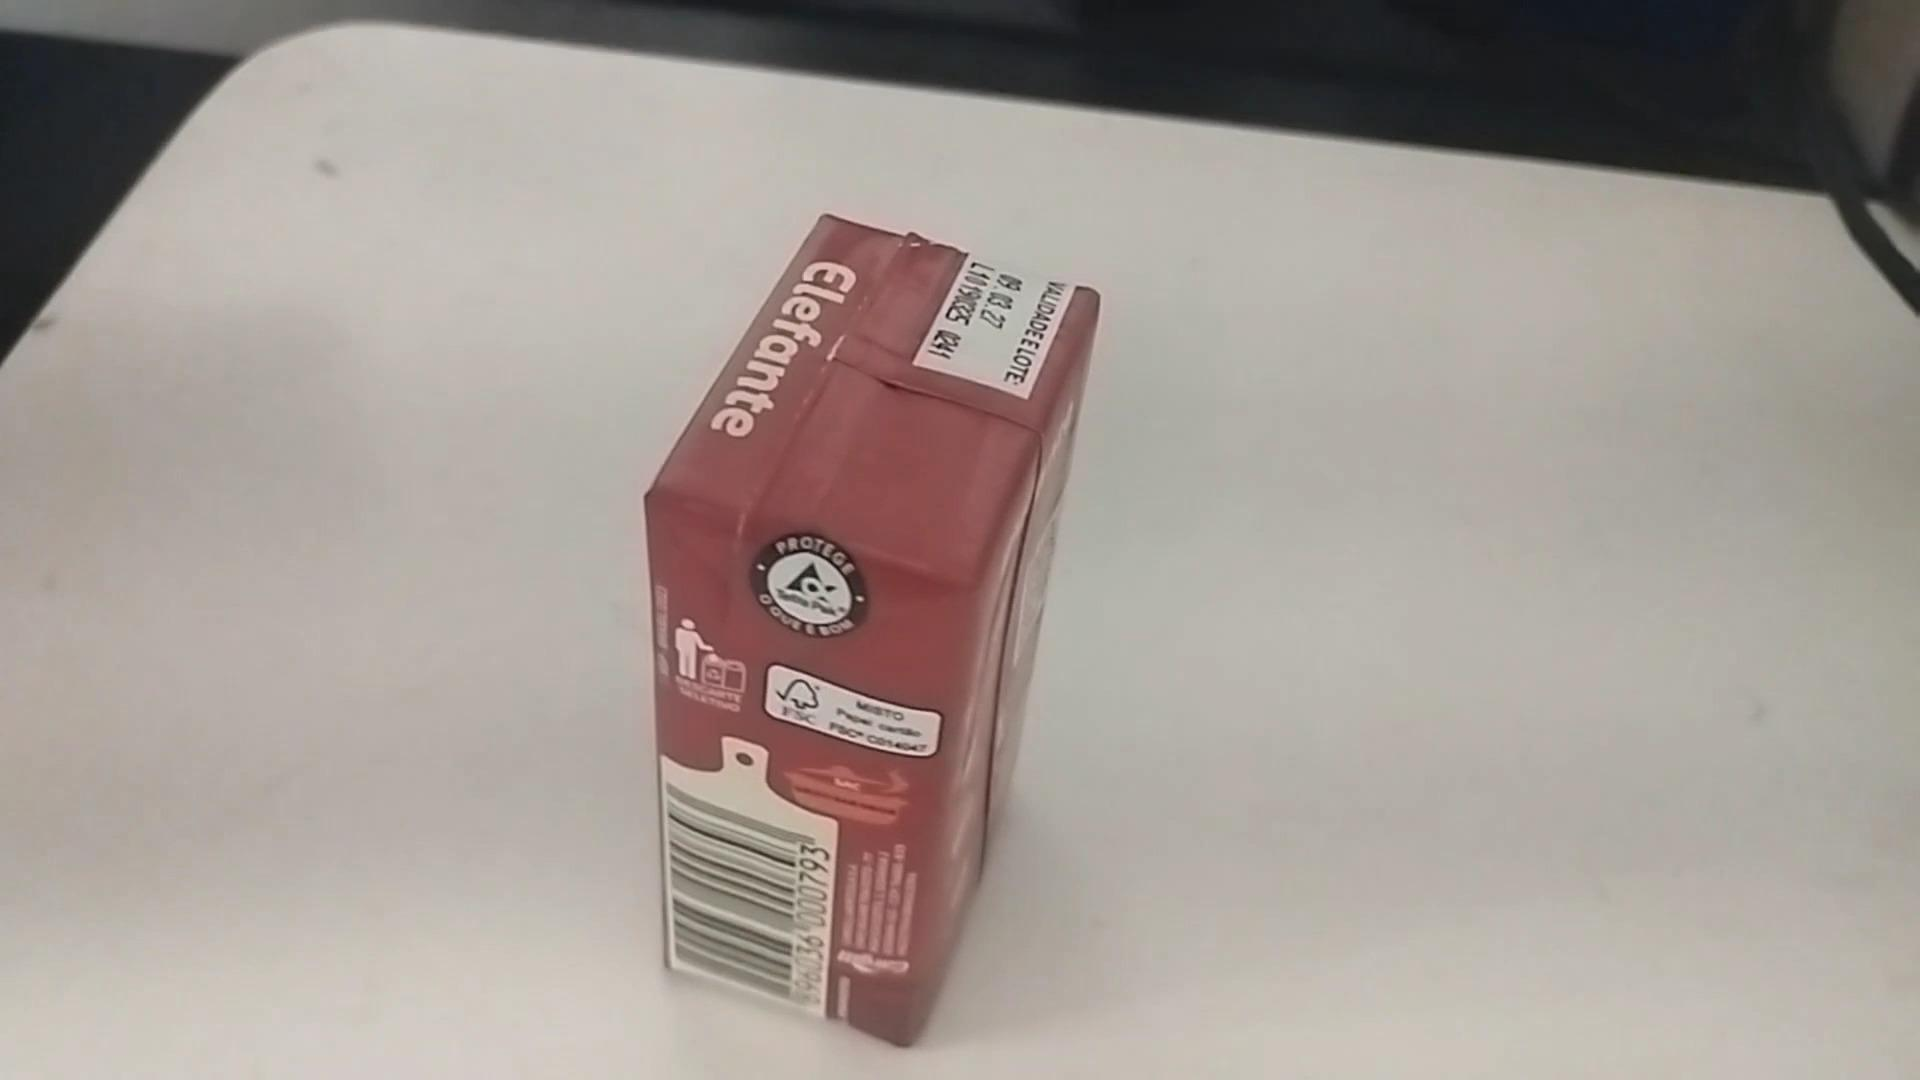tomate: (642, 200, 1118, 1043)
